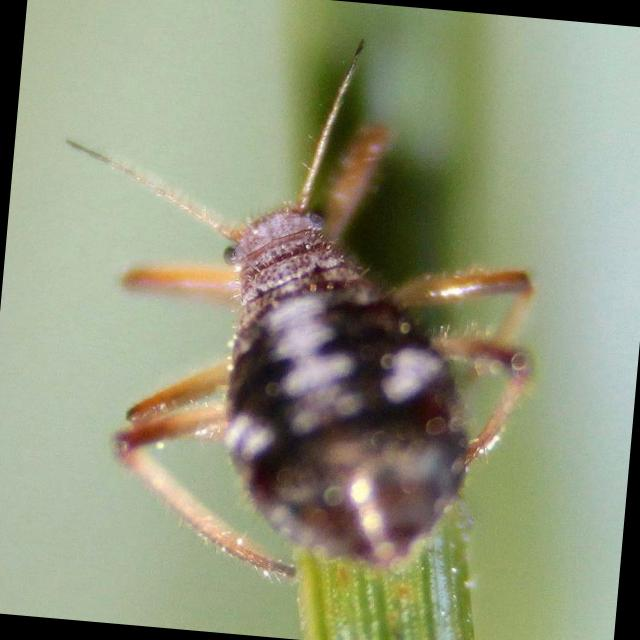Aphid: (33, 52, 564, 598)
